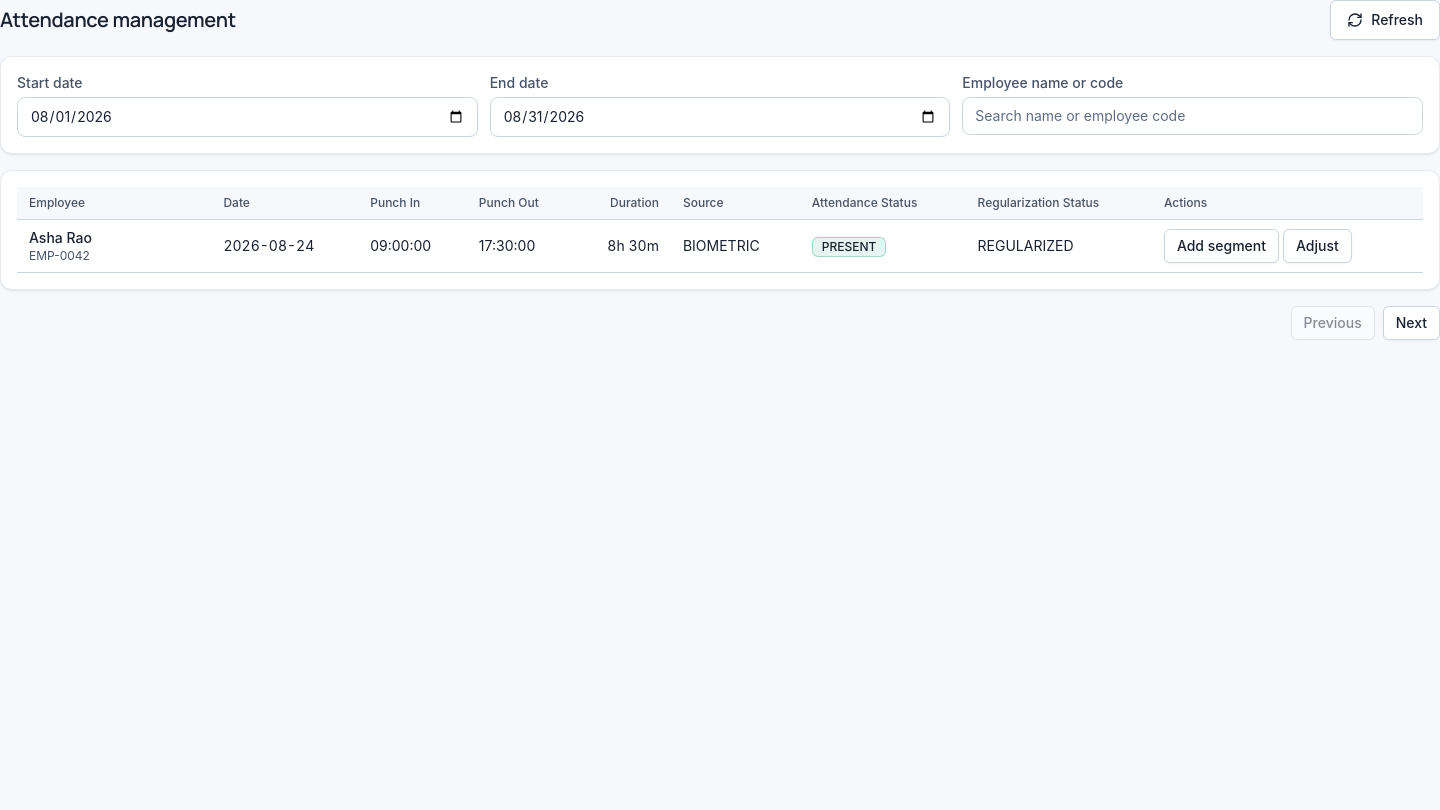
Test: resets to page one, refetches, and identifies the employee after a successful adjustment
Click the button with aria-label "Next page" at coordinates (1411, 323), box [1383,306,1439,340]
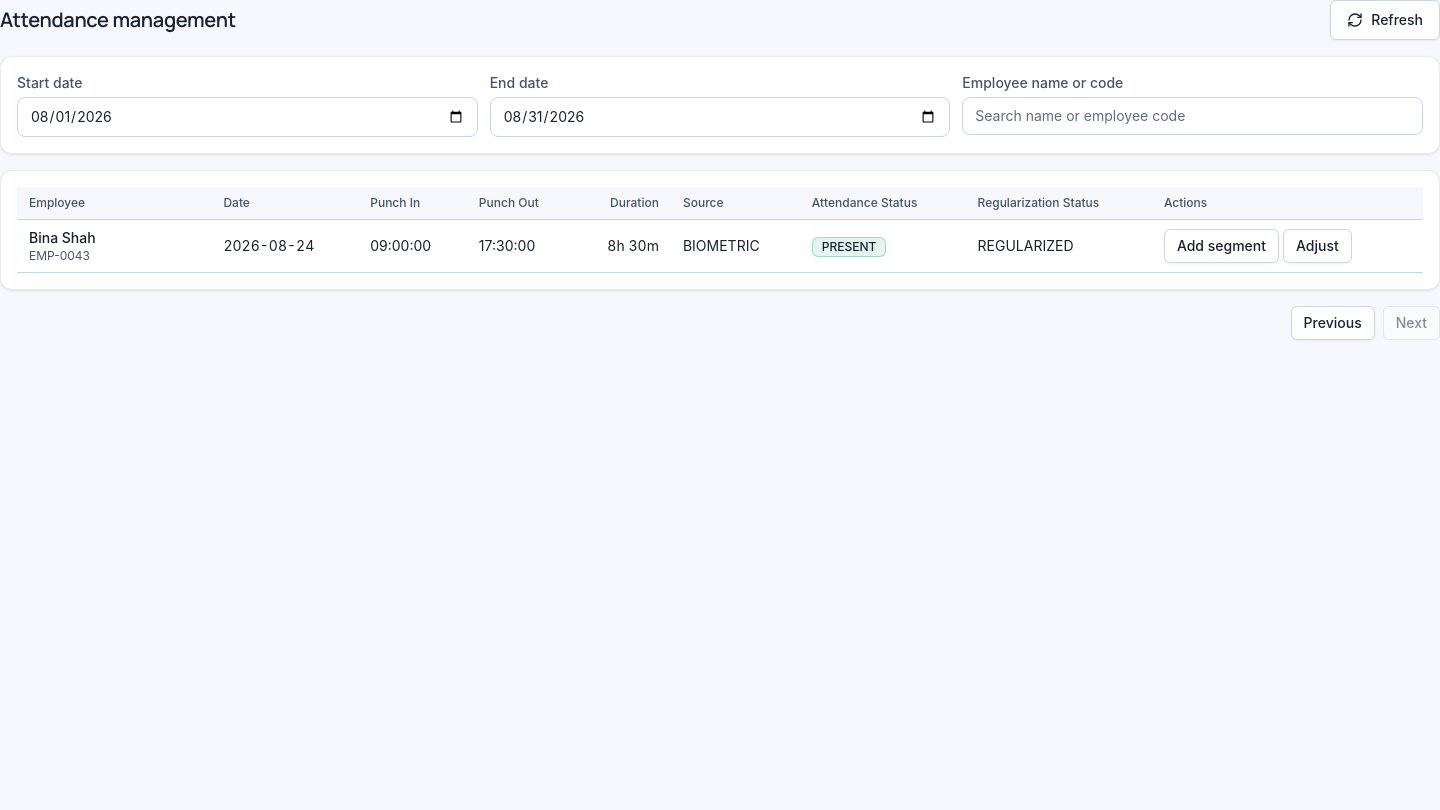
Click the button with aria-label "Adjust Bina Shah on 2026-08-24" at coordinates (1317, 246), box [1283,229,1352,263]
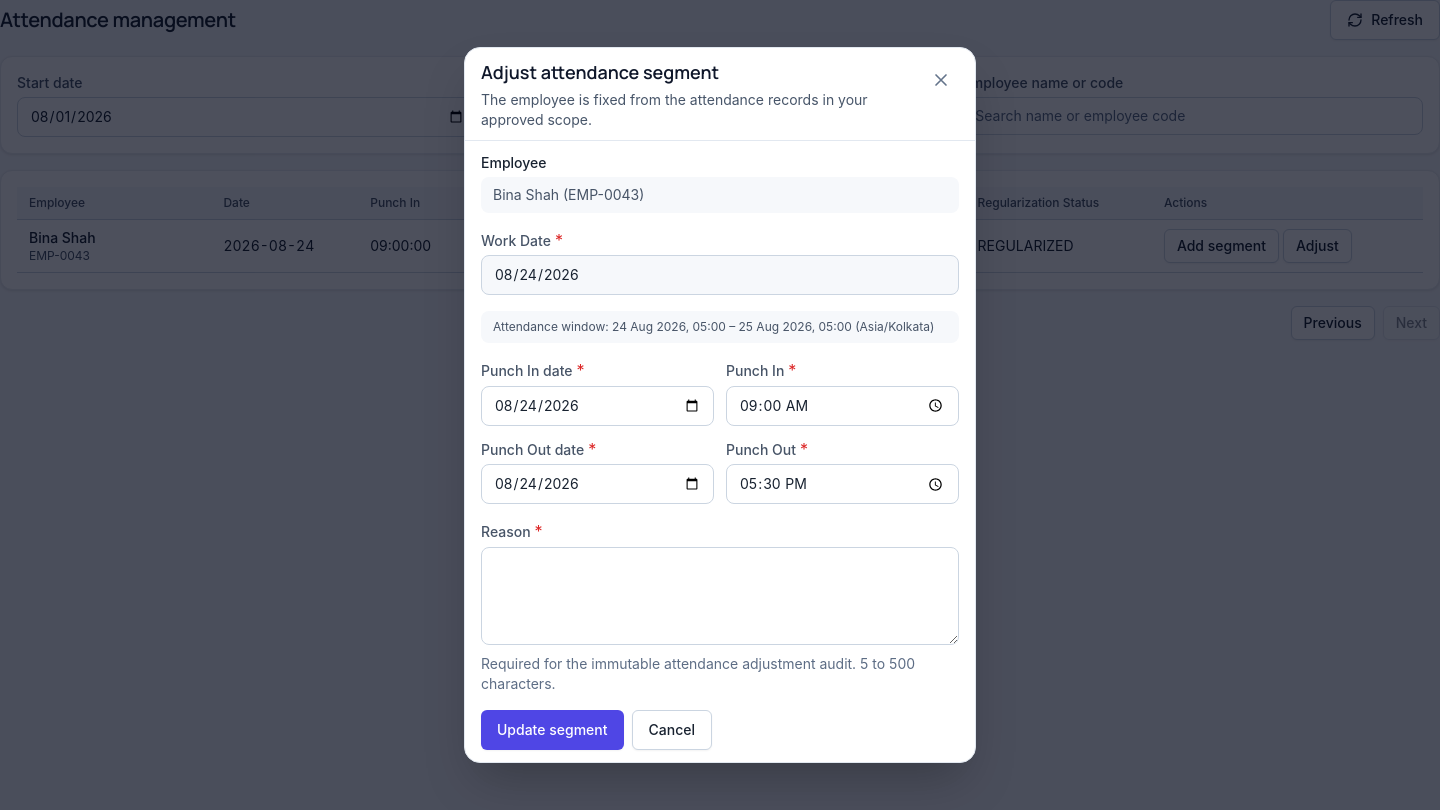
Now the text "Attendance window:" is shown, box [493,319,612,334]
Type "Approved biometric correction" into the text box labelled "Reason" at coordinates (720, 596), box [481,547,959,645]
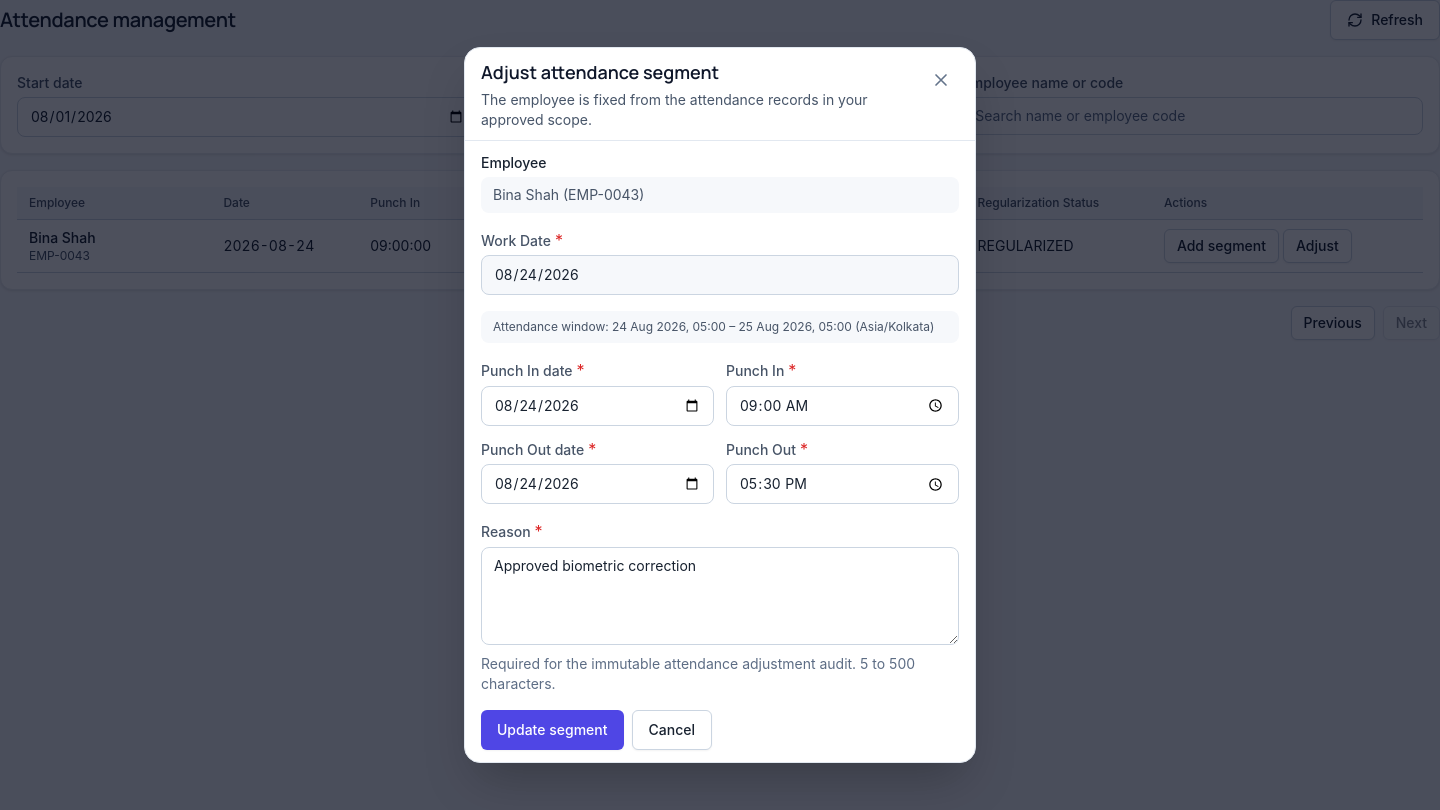
Click the button "Update segment" at coordinates (552, 730), box [481,710,624,750]
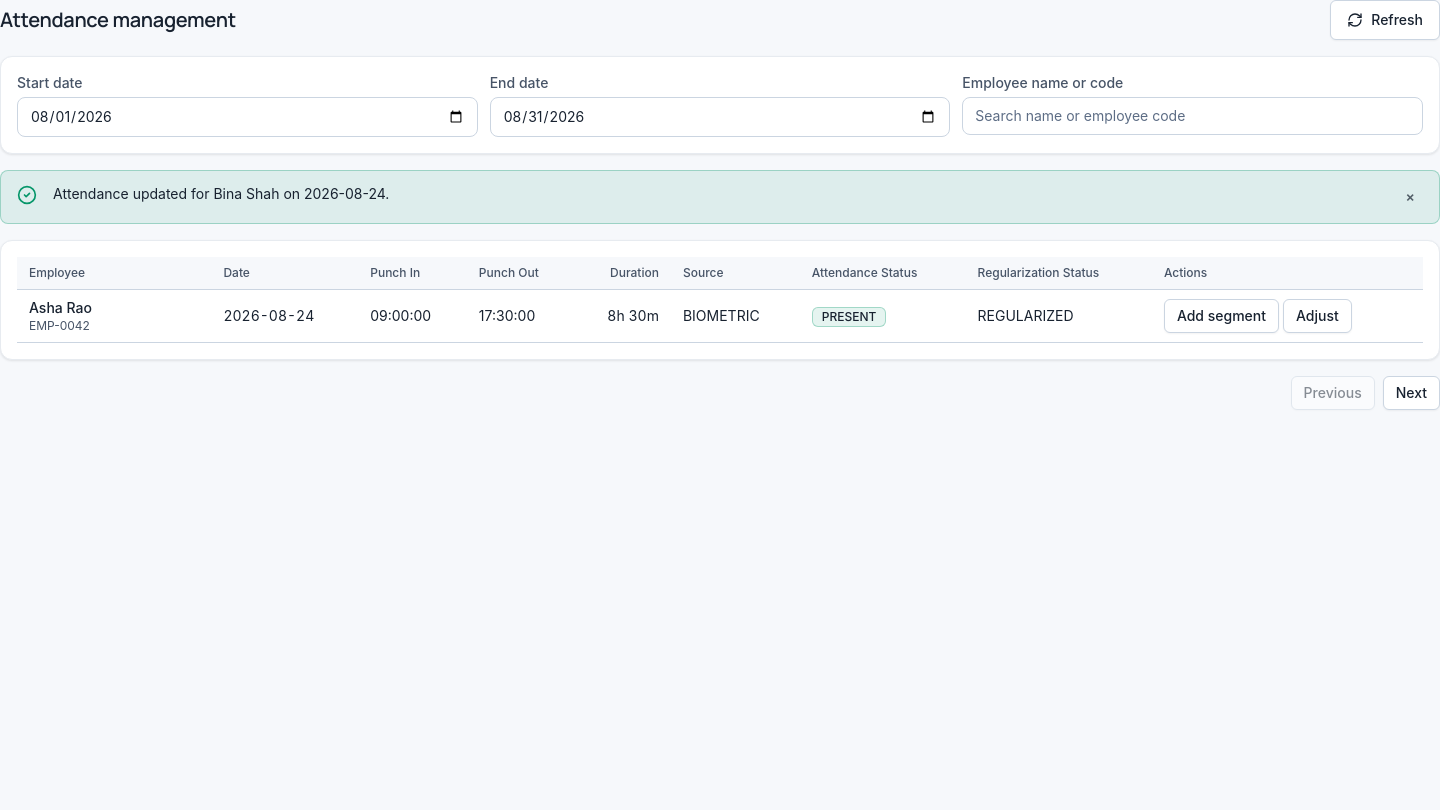
Now the text "Attendance updated for Bina Shah on 2026-08-24." is shown, box [53,185,389,202]
Now the dialog is gone
